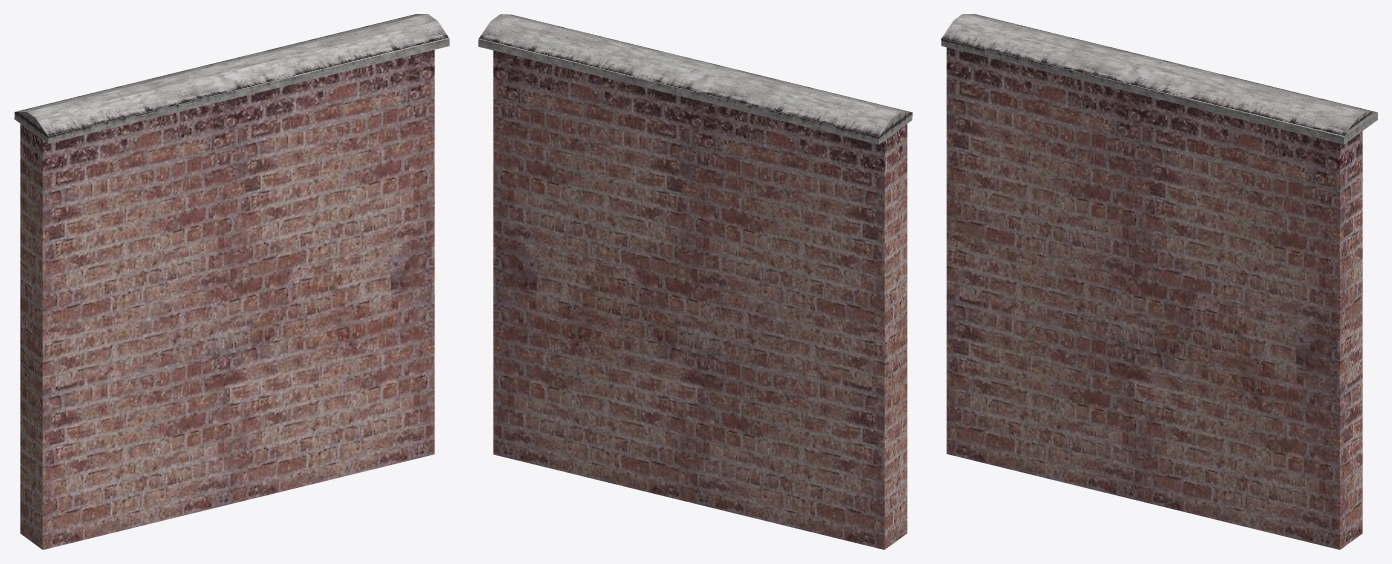
Rendered from Urban_BrickWallOneOverhangSmall_Model.fbx.
The picture shows the model from 3 angles, left to right: view 1: azimuth 30°, elevation 25°; view 2: azimuth 150°, elevation 25°; view 3: azimuth 330°, elevation 25°; orthographic projection.
Parts seen in each view (by area): view 1: Urban_BrickWallOneOverhangSmall_Mesh; view 2: Urban_BrickWallOneOverhangSmall_Mesh; view 3: Urban_BrickWallOneOverhangSmall_Mesh.
Boxes of the visible parts, x1,y1,x2,y2 form: Urban_BrickWallOneOverhangSmall_Mesh: (14,14,449,549); Urban_BrickWallOneOverhangSmall_Mesh: (478,14,912,549); Urban_BrickWallOneOverhangSmall_Mesh: (941,14,1377,549).
Size of the model in its own units: 2.05 by 2.08 by 0.2996.
